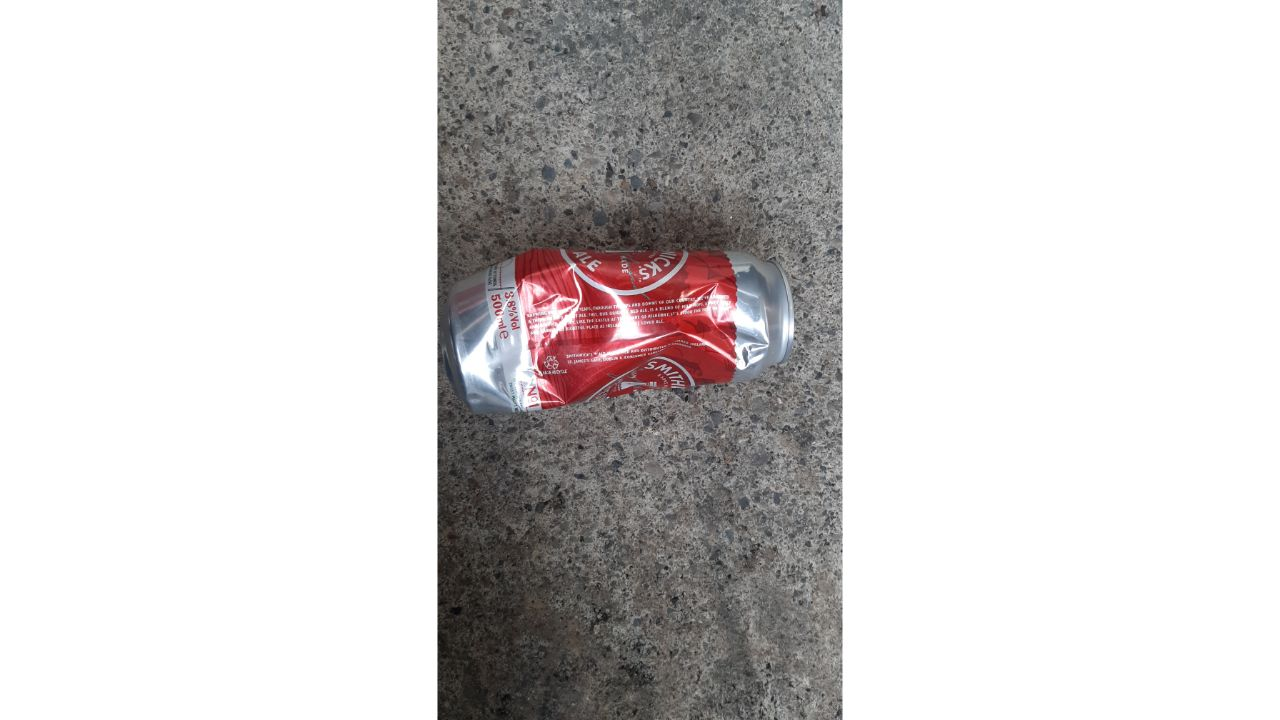Can: (447, 244, 798, 414)
